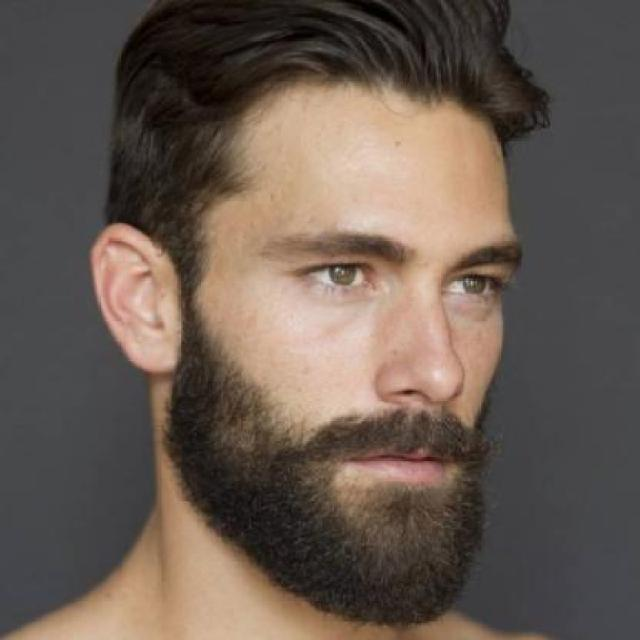0_rostro_limpio: (157, 25, 517, 632)
